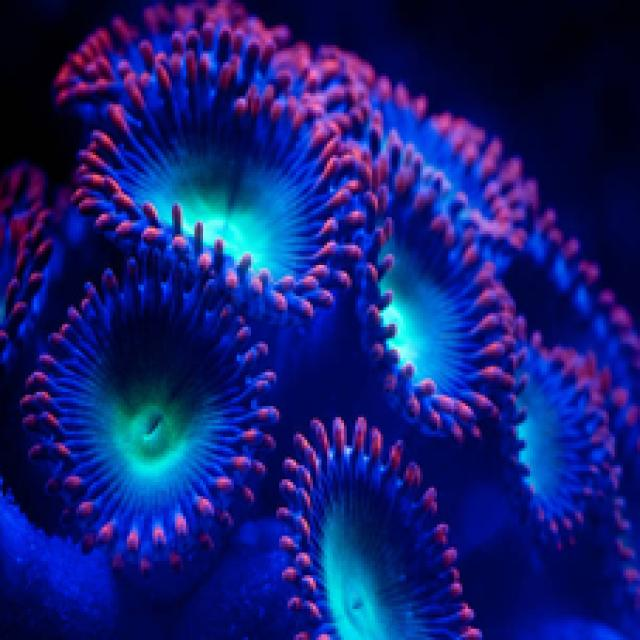Healthy: (57, 24, 373, 317), (24, 241, 272, 582), (317, 46, 540, 258), (348, 184, 520, 438), (283, 418, 480, 638), (503, 317, 616, 545), (1, 162, 55, 353)
